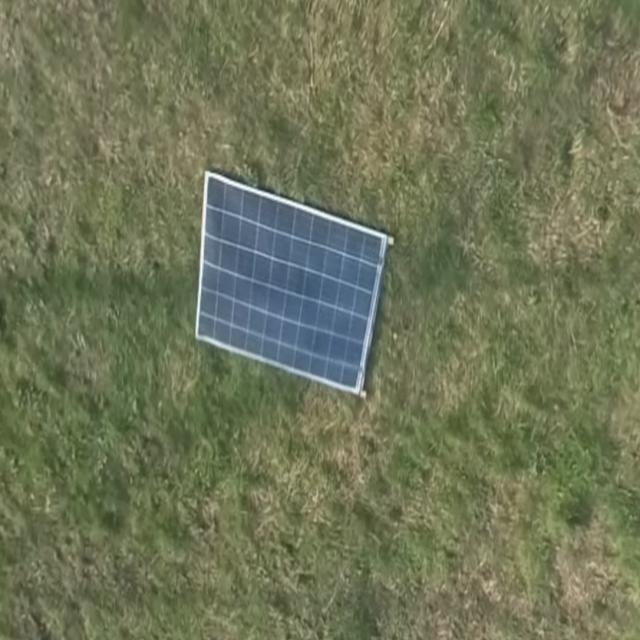no faulty: (192, 174, 379, 392)
